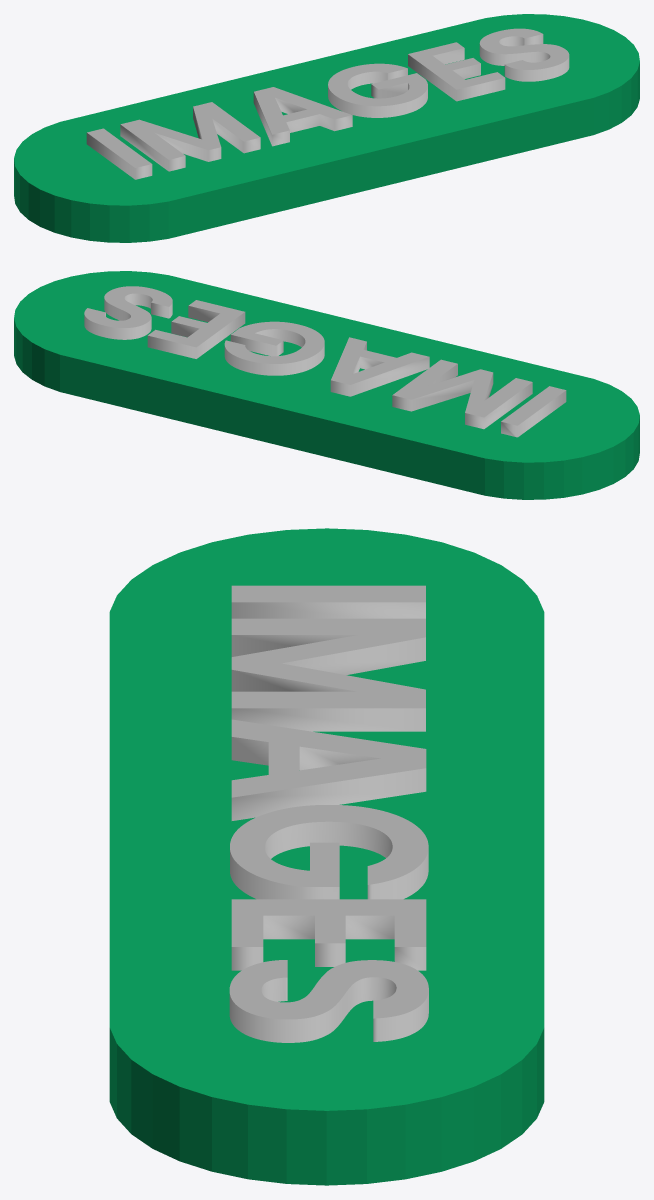
File: images_button.gltf
The picture shows the model from 3 angles, top to bottom: view 1: azimuth 30°, elevation 25°; view 2: azimuth 150°, elevation 25°; view 3: azimuth 270°, elevation 25°; orthographic projection. The views are drawn at different scales.
Visible parts, largest first — view 1: Circle.002; view 2: Circle.002; view 3: Circle.002.
Part boxes in pixels (box(x1,y1,x2,y2)): Circle.002: box(14, 14, 639, 242); Circle.002: box(14, 271, 639, 499); Circle.002: box(109, 528, 544, 1185).
Size of the model in its own units: 0.7007 by 0.0551 by 0.2211.
